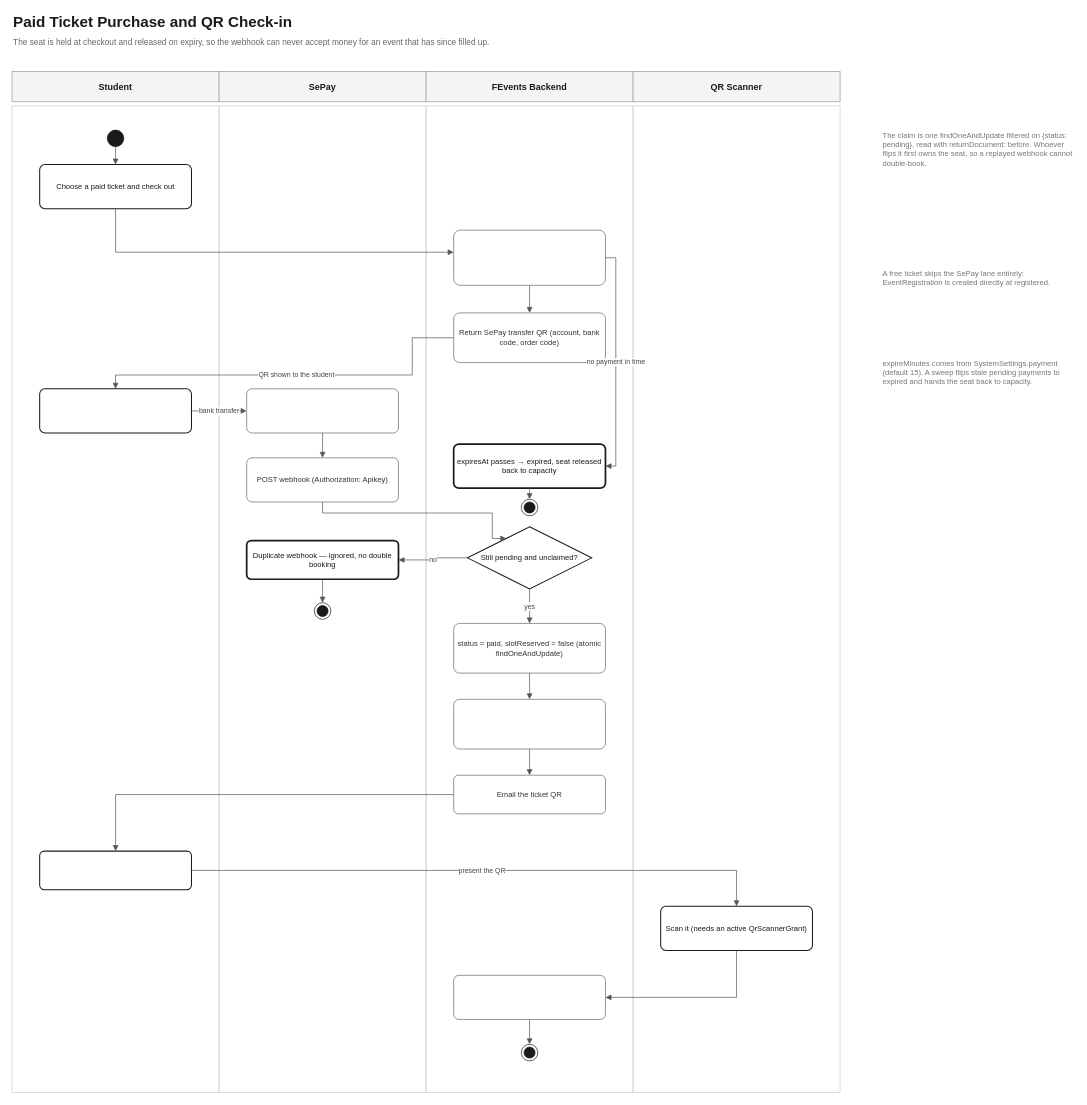
The diagram is 1087 pixels wide and 1105 high, and some of its shapes have lost their labels. Here are the shapes that lost their labels. From the top down, the centre of each, then its label:
At (x=529, y=257): "Create Payment (pending), reserve seat (slotReserved = true), stamp expiresAt".
At (x=115, y=410): "Transfer the exact amount, order code in the memo".
At (x=322, y=410): "Receive the transfer".
At (x=529, y=724): "Create EventRegistration (registered), link Payment.registration".
At (x=115, y=870): "Show the QR at the door".
At (x=529, y=997): "status = attended, stamp checkedInAt + attendanceLog".
